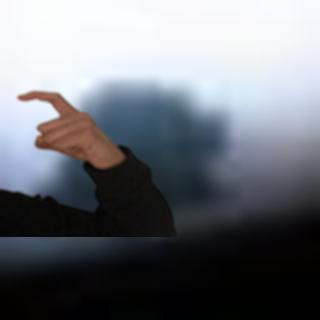WHY: (9, 82, 121, 167)
